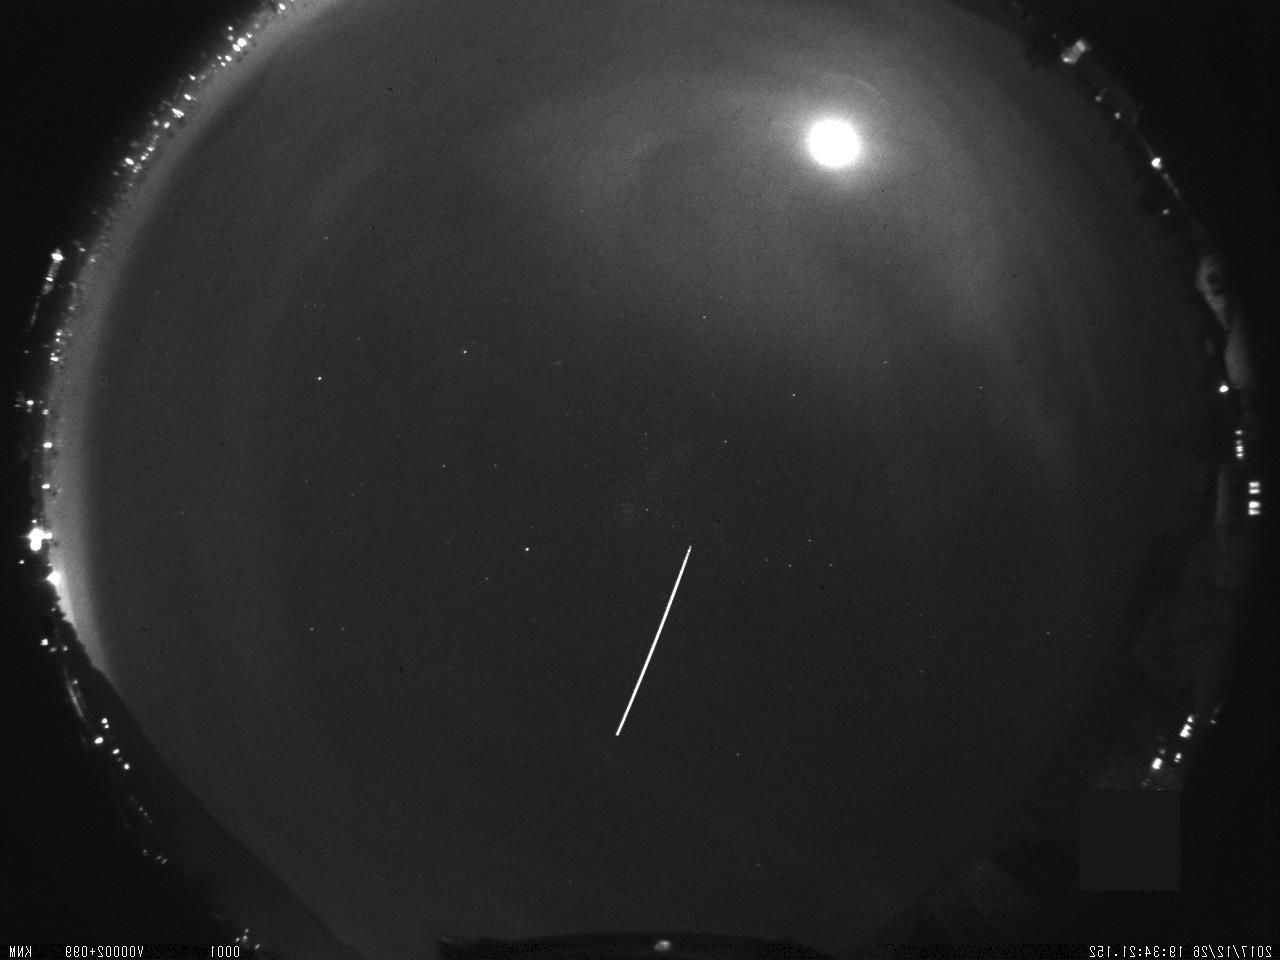meteor: (512, 505, 775, 759)
